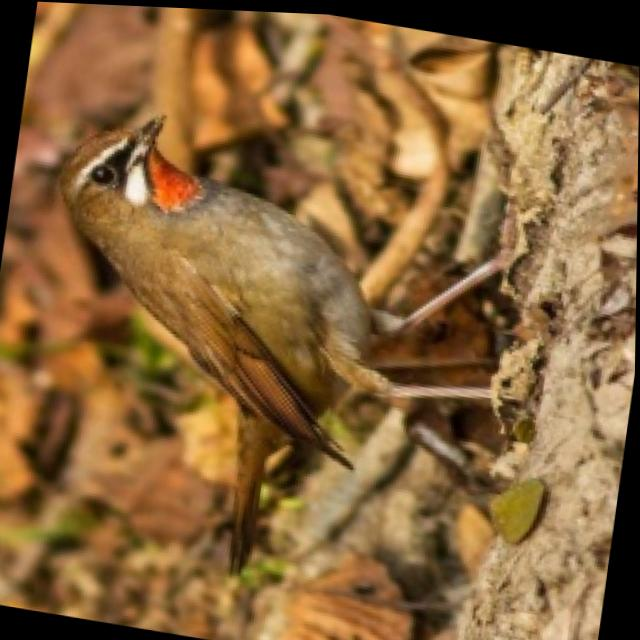sparrow: (4, 89, 534, 616)
